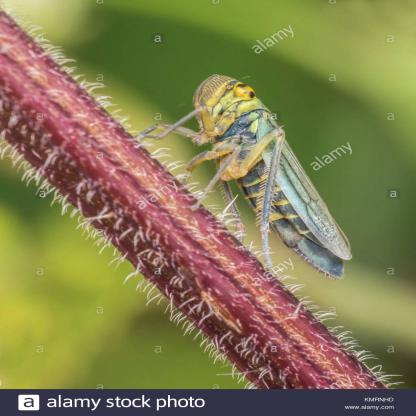Green-Leafhopper: (141, 74, 352, 283)
